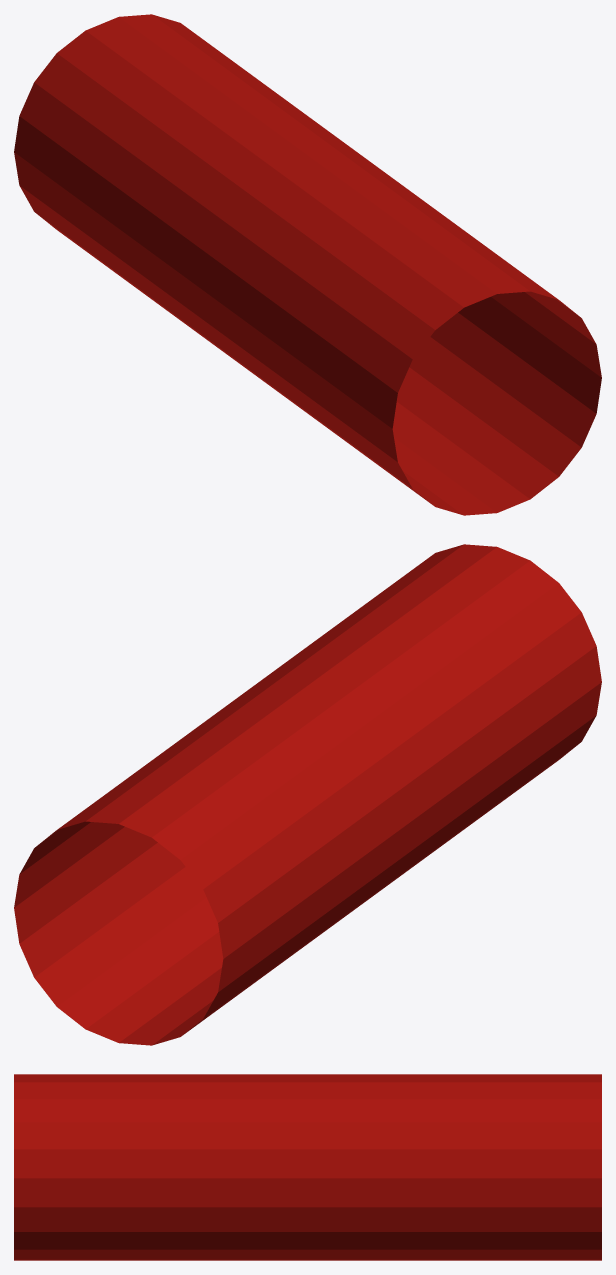
Rendered from Vessel_straight_100_inside.fbx.
3 renders of one model, top to bottom at view 1: azimuth 30°, elevation 25°; view 2: azimuth 150°, elevation 25°; view 3: azimuth 270°, elevation 25°, orthographic. The views are drawn at different scales.
Parts seen in each view (by area): view 1: Vessel_straight_100; view 2: Vessel_straight_100; view 3: Vessel_straight_100.
Boxes of the visible parts, x1,y1,x2,y2 form: Vessel_straight_100: (14,14,601,515); Vessel_straight_100: (14,544,601,1045); Vessel_straight_100: (14,1074,601,1260).
Bounding box in the file's own units: 6.39 × 6.39 × 20.
